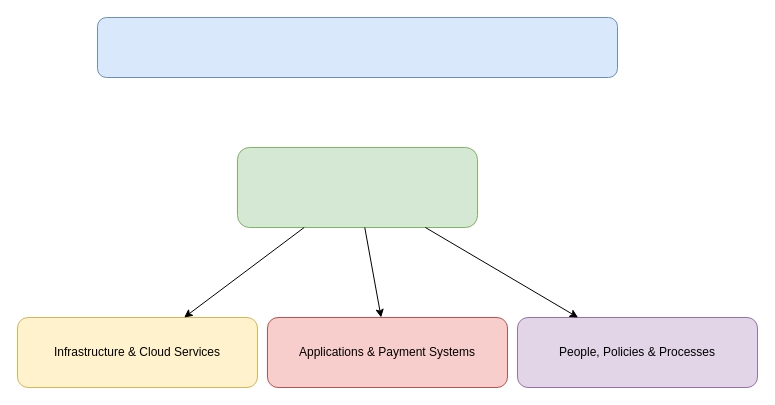
The diagram is 775 pixels wide and 405 high, and some of its shapes have lost their labels. The shapes that lost their labels are listed below. From the top down, each one's centre as x and y in pixels, then its label:
At pixel 357 47: "CyroPay Ltd ISMS Scope Diagram — ISO/IEC 27001:2022".
At pixel 357 187: "ISMS Core Scope".
